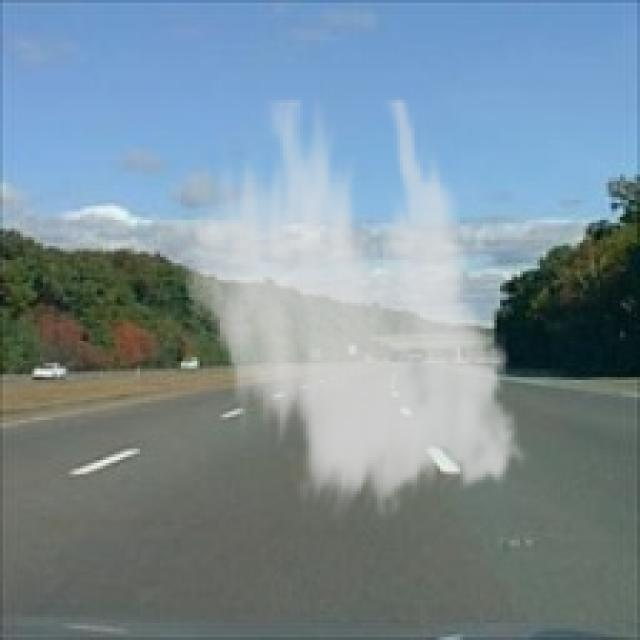smoke: (175, 97, 534, 520)
